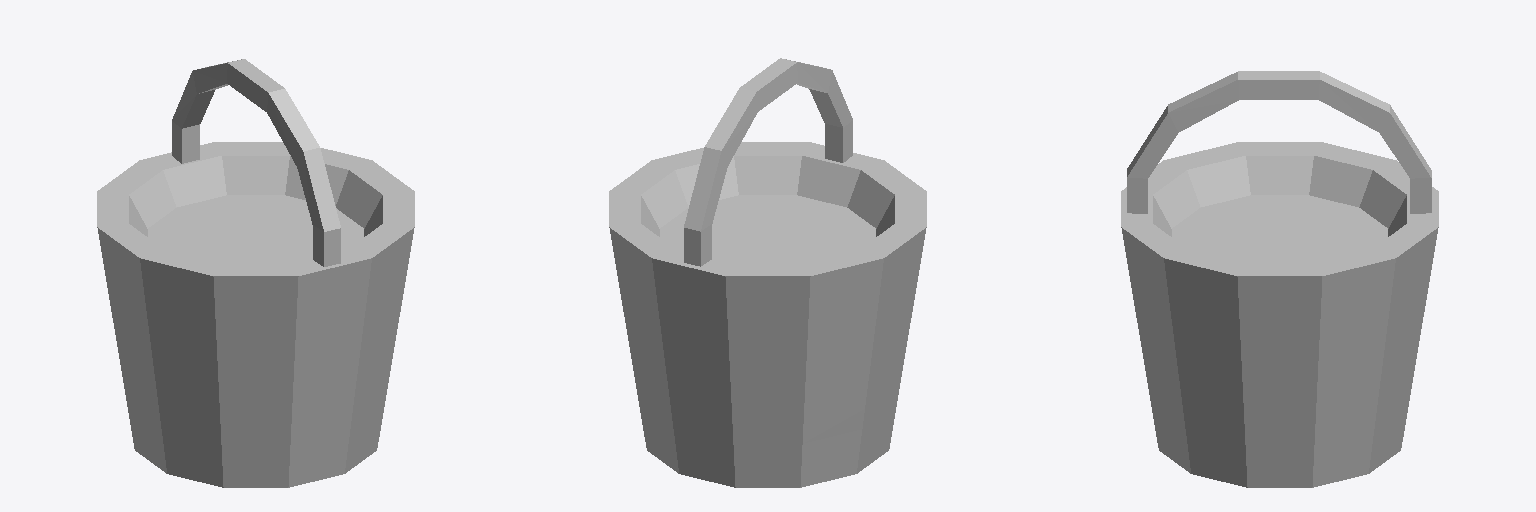
The model's file is bucket_001.obj.
3 views of the same model, side by side, from view 1: azimuth 30°, elevation 25°; view 2: azimuth 150°, elevation 25°; view 3: azimuth 270°, elevation 25° (orthographic).
Visible parts, largest first — view 1: bucket_001; view 2: bucket_001; view 3: bucket_001.
Part boxes in pixels (bbox=[...]): bucket_001: bbox=[97, 59, 414, 487]; bucket_001: bbox=[609, 58, 926, 487]; bucket_001: bbox=[1121, 71, 1438, 487].
Bounding box in the file's own units: 0.3793 × 0.4764 × 0.3793.